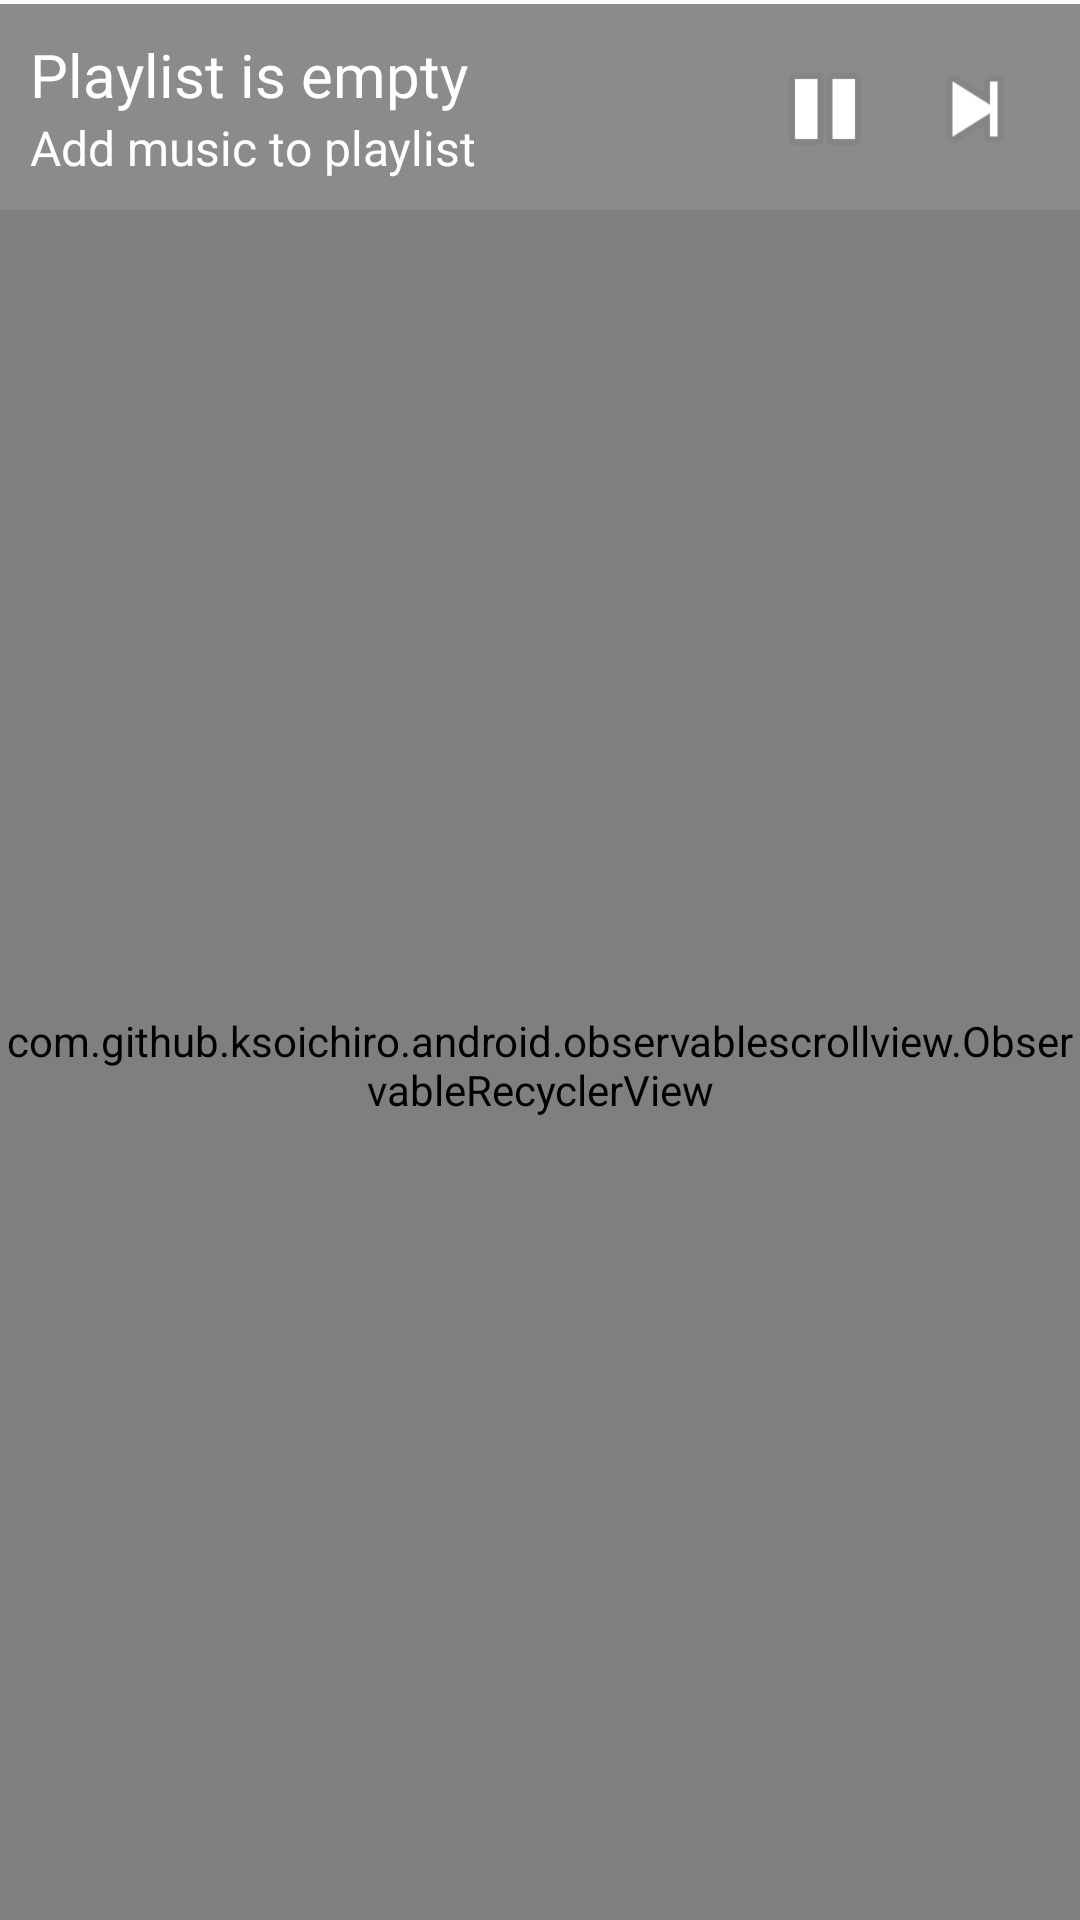

Screen size 1080*1920. Icon name, then its center in pixels as (x,y):
next: (975,109)
pause: (825,109)
